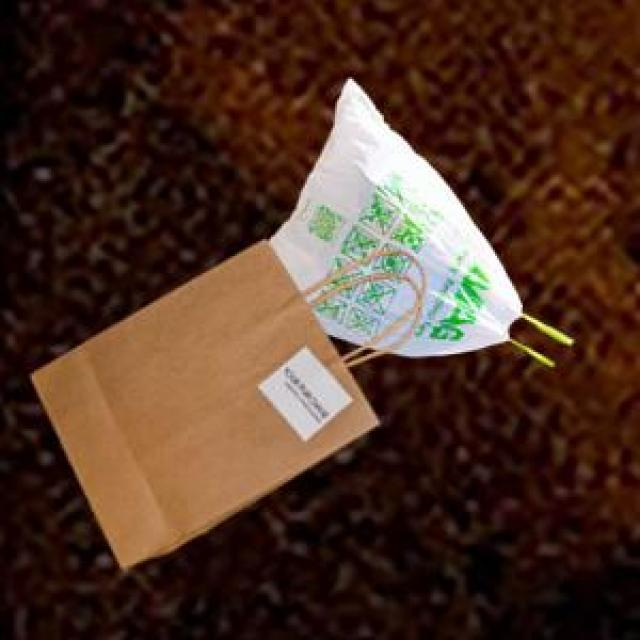paper: (28, 235, 418, 565)
